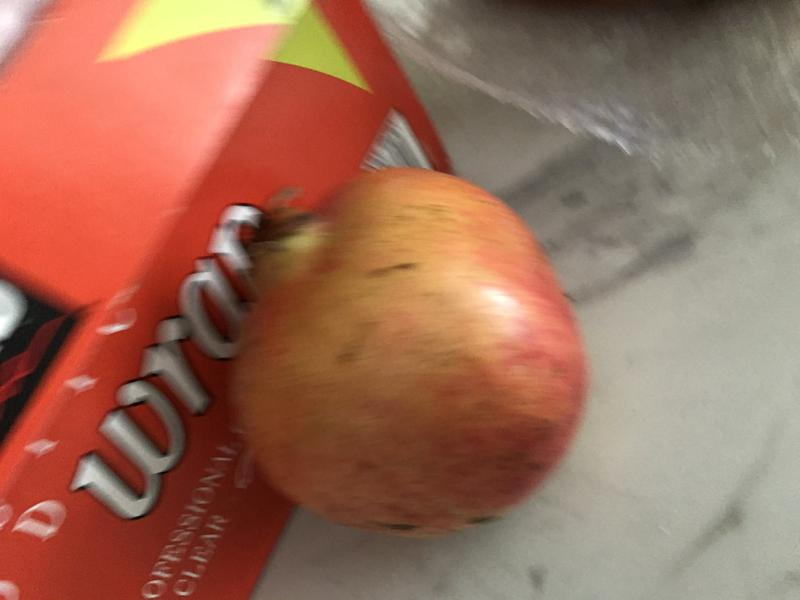pomegranate: (220, 147, 604, 566)
